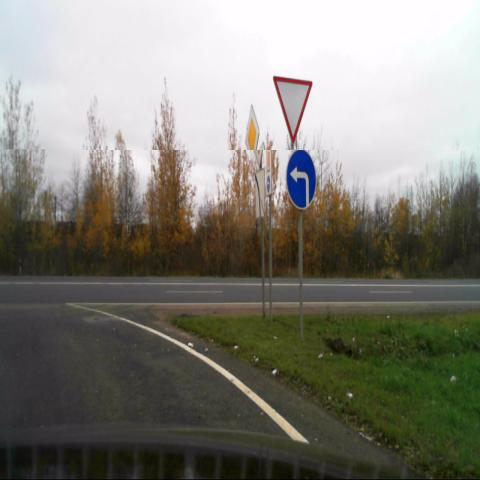4_1_3: (286, 148, 317, 210)
